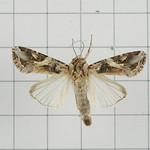Spodoptera litura: (11, 34, 146, 127)
